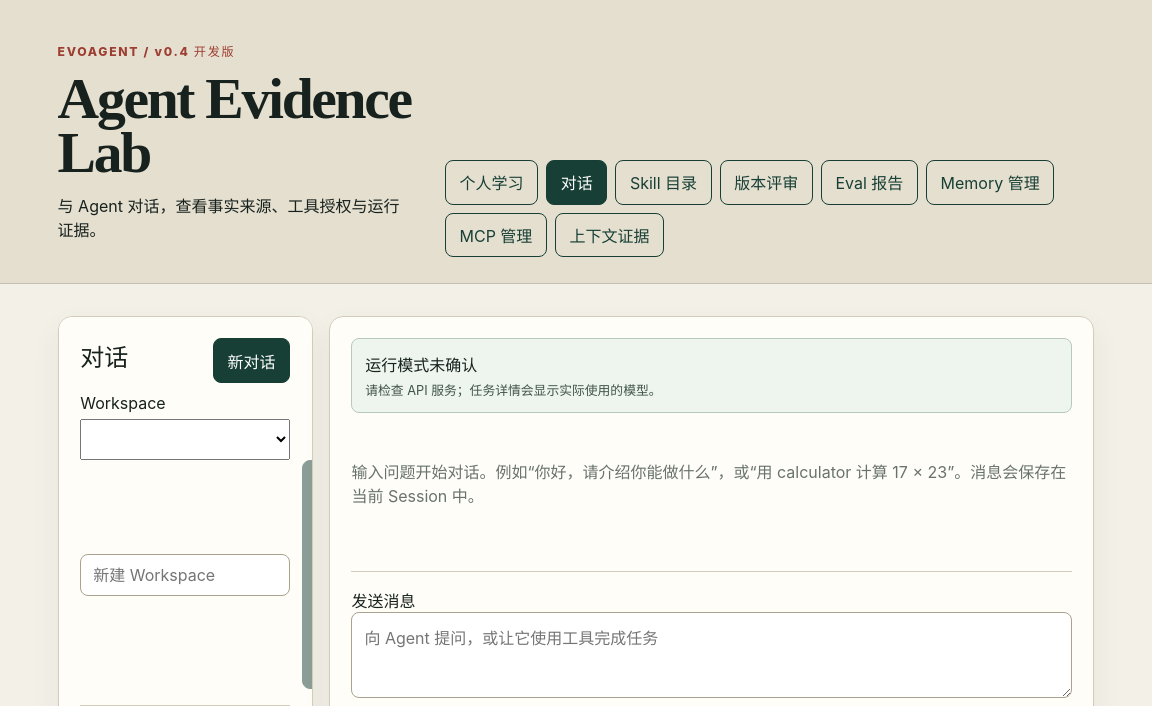
Test: 可以切换到评测报告页
Click the button "Eval 报告" at (869, 182), box [821, 160, 918, 205]
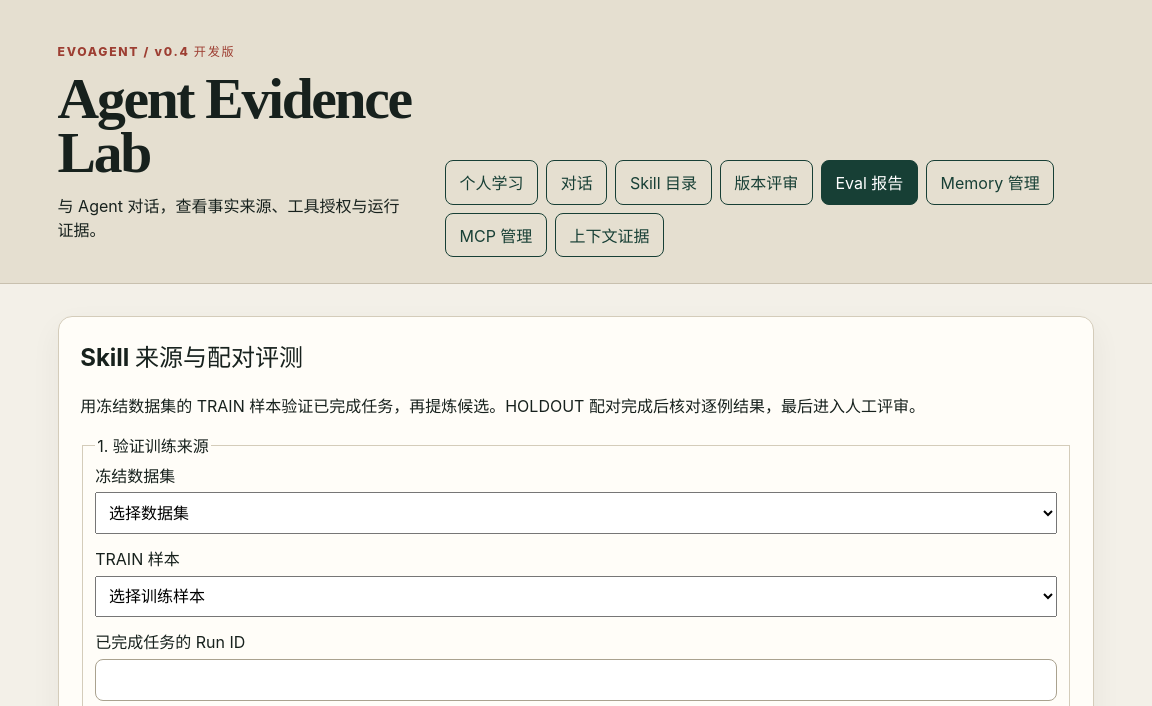
Expected: the heading "Skill 来源与配对评测" is shown, [80, 343, 303, 372]
